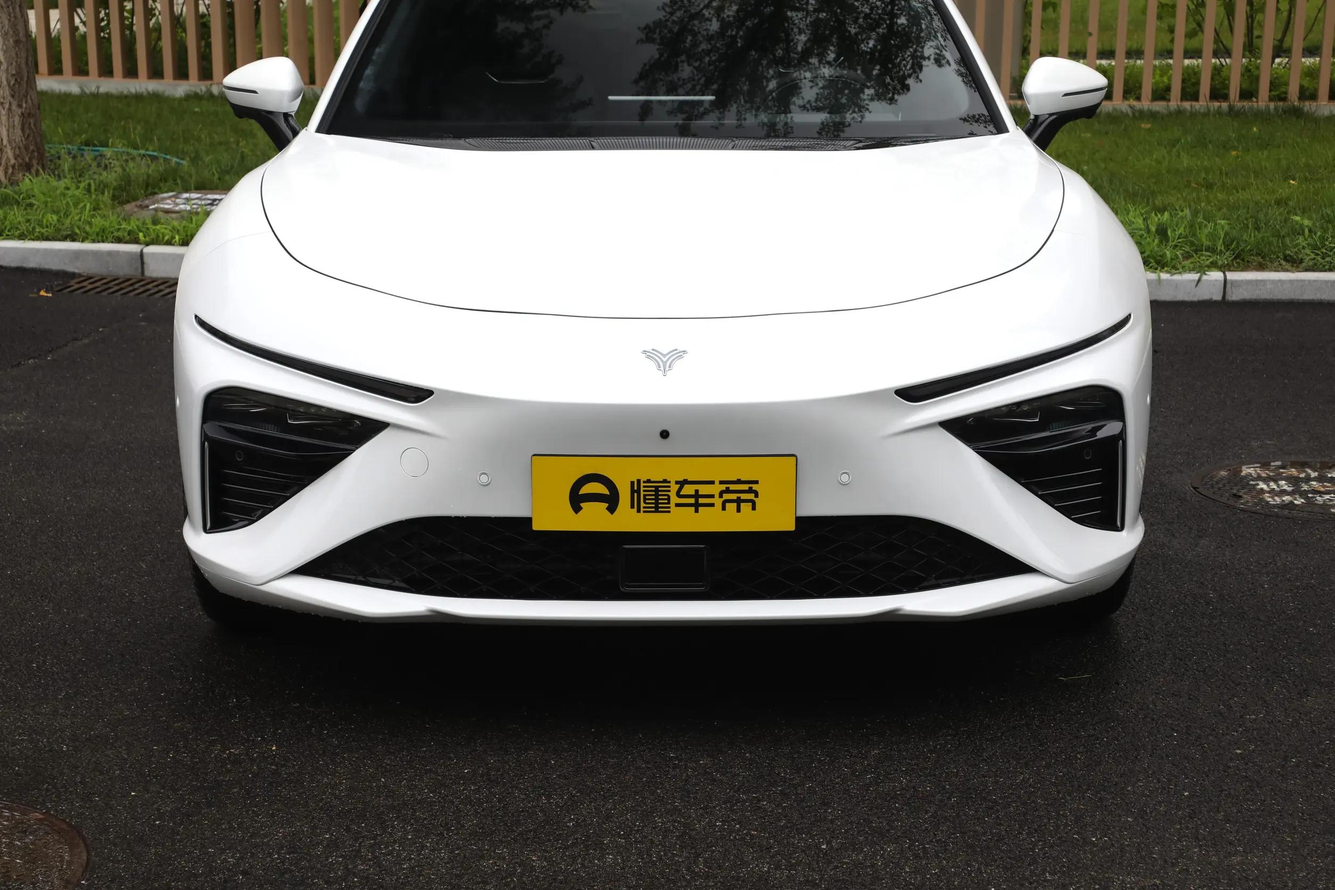NETA: (639, 348, 689, 377)
